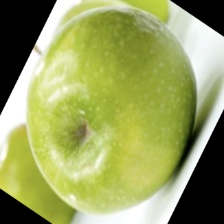apple: (37, 0, 195, 190)
